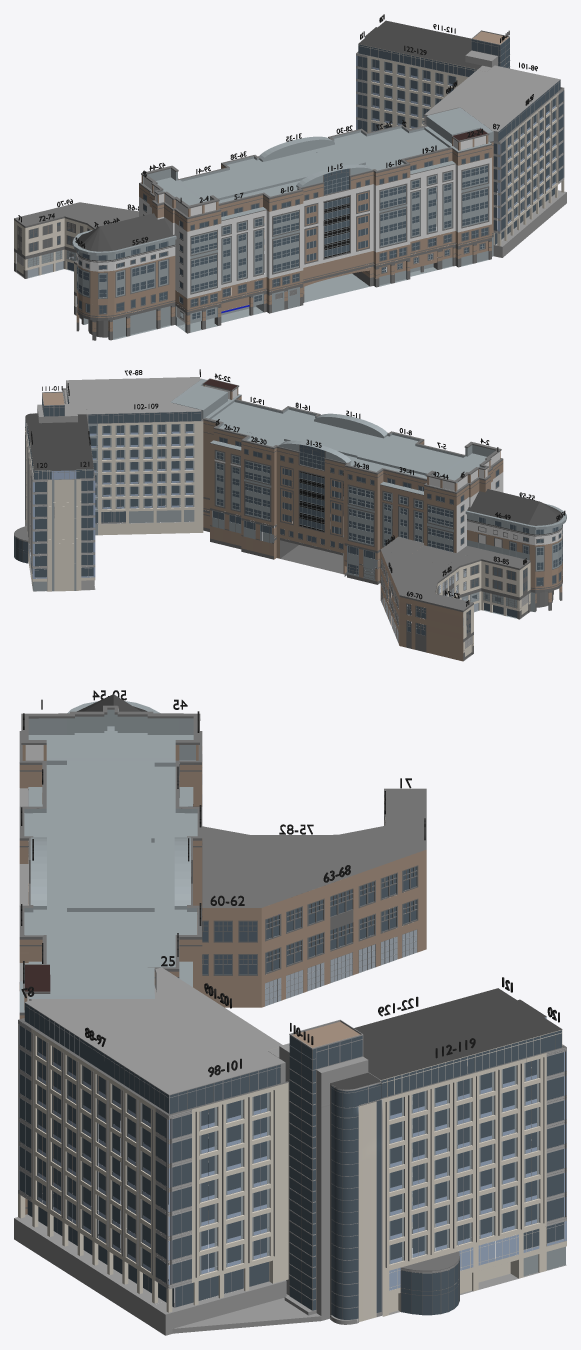
The model's file is WaltDisney.glb.
3 renders of one model, top to bottom at view 1: azimuth 30°, elevation 25°; view 2: azimuth 150°, elevation 25°; view 3: azimuth 270°, elevation 25°, orthographic. The views are drawn at different scales.
Visible parts, largest first — view 1: disney, Drop122, Drop13, Drop87, Drop97, Drop123; view 2: disney, Drop121, Drop120, Drop33, Drop108, Drop107, Drop103, Drop105, Drop106, Drop109, Drop104, Drop34 (+4 smaller); view 3: disney, Drop111, Drop110, Drop98, Drop119, Drop97, Drop100, Drop101, Drop99, Drop88, Drop112, Drop113 (+14 smaller).
Boxes of the visible parts, <box> form: disney: <box>14,20,566,340</box>; Drop122: <box>356,55,367,131</box>; Drop13: <box>327,170,345,254</box>; Drop87: <box>493,143,499,231</box>; Drop97: <box>558,91,563,181</box>; Drop123: <box>372,59,378,131</box>; disney: <box>14,377,566,661</box>; Drop121: <box>81,480,95,564</box>; Drop120: <box>33,482,46,566</box>; Drop33: <box>303,446,321,542</box>; Drop108: <box>172,424,179,507</box>; Drop107: <box>158,424,165,507</box>; Drop103: <box>103,425,110,508</box>; Drop105: <box>130,425,137,508</box>; Drop106: <box>144,424,151,507</box>; Drop109: <box>186,424,192,507</box>; Drop104: <box>117,425,123,508</box>; Drop34: <box>316,448,324,544</box>; disney: <box>14,694,566,1335</box>; Drop111: <box>301,1043,315,1310</box>; Drop110: <box>289,1035,300,1303</box>; Drop98: <box>172,1114,191,1283</box>; Drop119: <box>547,1051,566,1221</box>; Drop97: <box>155,1112,168,1284</box>; Drop100: <box>227,1100,240,1266</box>; Drop101: <box>253,1093,266,1259</box>; Drop99: <box>201,1107,214,1274</box>; Drop88: <box>20,1026,31,1196</box>; Drop112: <box>390,1097,401,1263</box>; Drop113: <box>413,1091,424,1257</box>.
Size of the model in its own units: 350 by 98.83 by 175.
